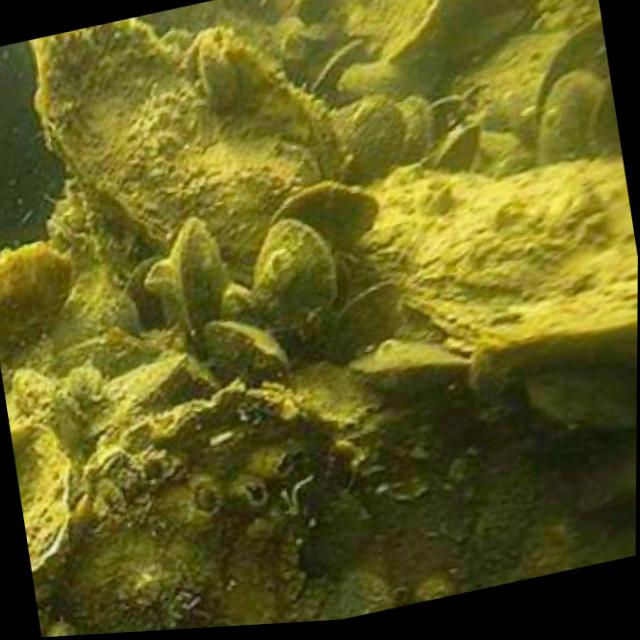Oyster-Closed: (158, 219, 231, 323), (349, 340, 466, 394), (201, 320, 291, 384), (197, 27, 248, 107)
Oyster-Indeterminate: (34, 17, 347, 283), (351, 157, 638, 352), (10, 423, 70, 573), (257, 229, 339, 333), (274, 174, 375, 257), (0, 243, 72, 354), (537, 71, 606, 161), (327, 283, 399, 364), (340, 101, 400, 183), (396, 95, 430, 163)
